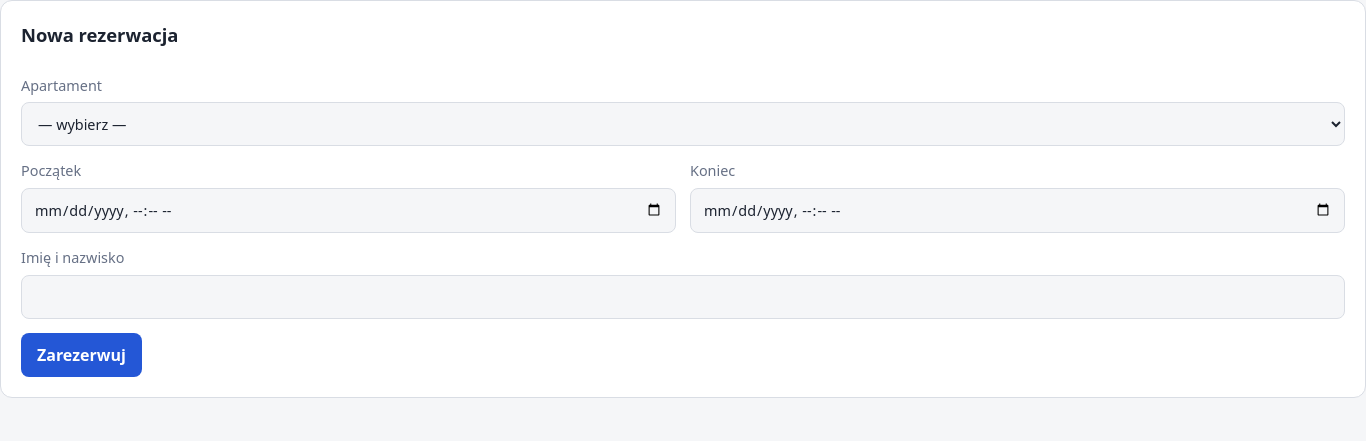
BookingForm › rejects a booking that starts in the past
The width and height of the screenshot is (1366, 441).
Select "Apartament 101" in the dropdown labelled "Apartament" at [683, 124], box [21,102,1345,146]
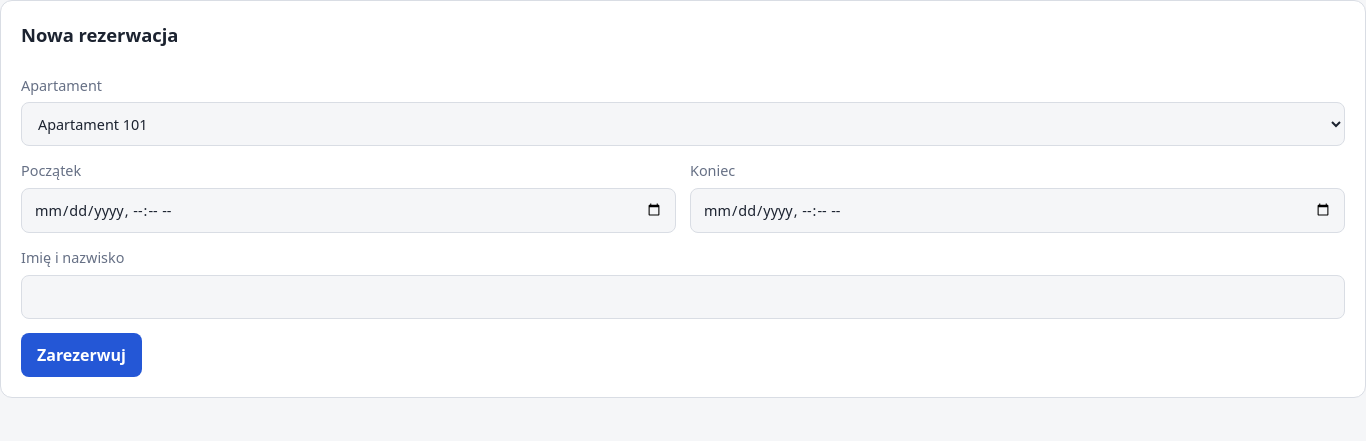
Type "2026-05-01T10:00" into the field labelled "Początek" at [348, 211], box [21,188,676,233]
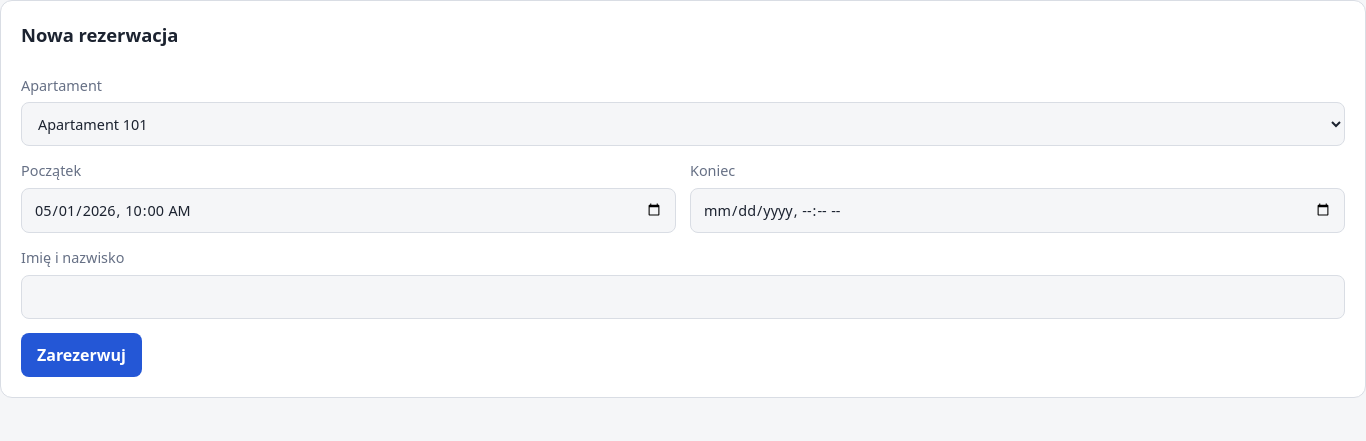
Type "2026-05-03T10:00" into the field labelled "Koniec" at [1018, 211], box [690,188,1345,233]
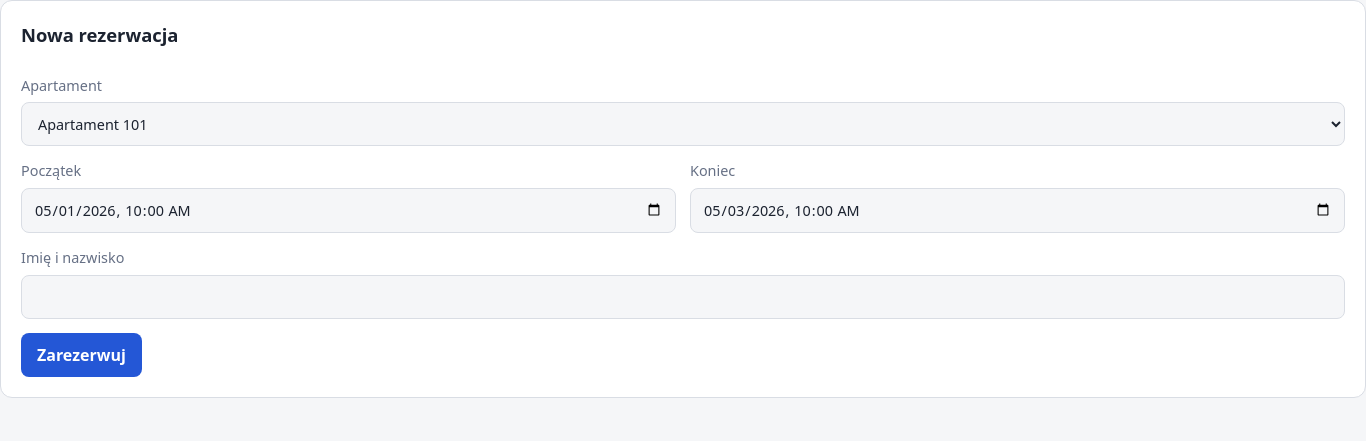
Type "Jan" into the field labelled "Imię i nazwisko" at [683, 297], box [21,275,1345,319]
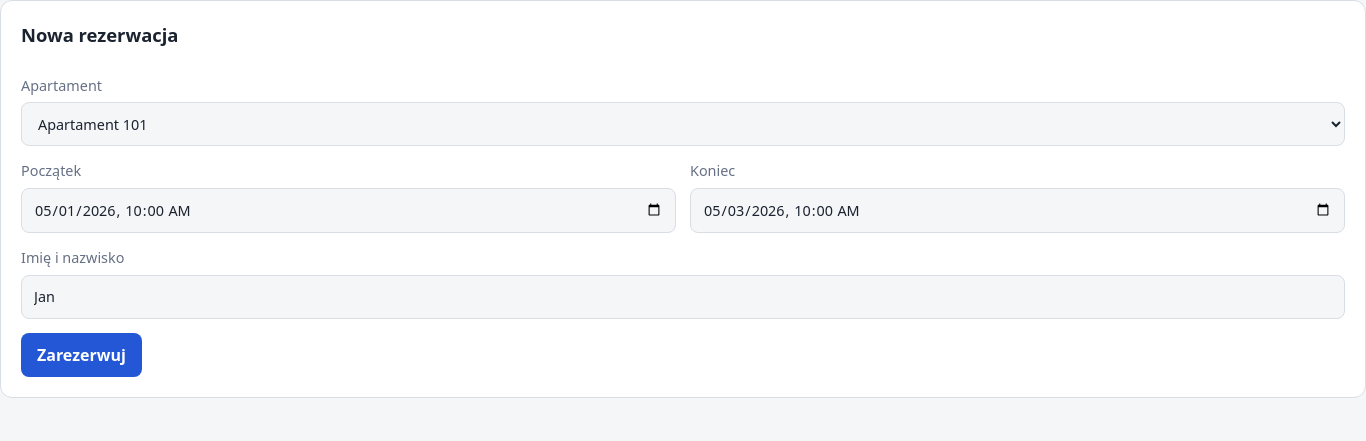
Click the button "Zarezerwuj" at [81, 355], box [21,333,142,377]
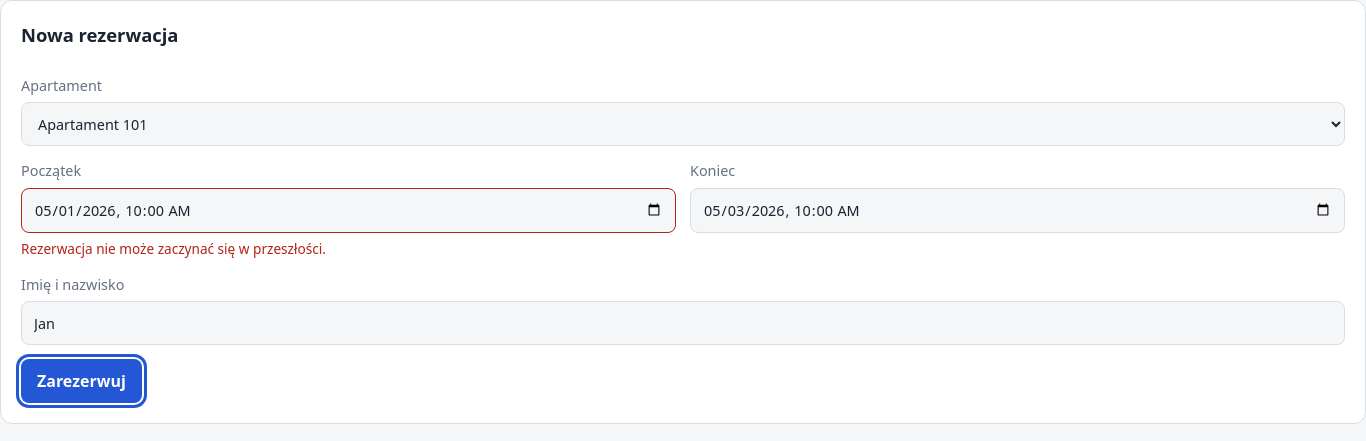
Expected: the text "Rezerwacja nie może zaczynać się w przeszłości." is shown, [21,239,326,258]
